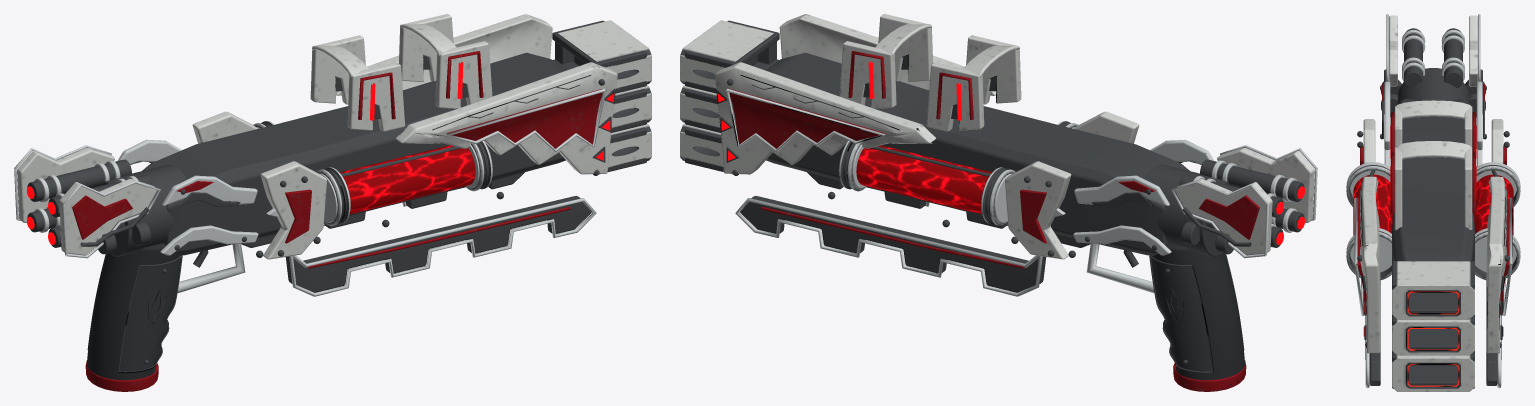
Rendered from discharge-static-preview-v39.glb.
The picture shows the model from 3 angles, left to right: view 1: azimuth 30°, elevation 25°; view 2: azimuth 150°, elevation 25°; view 3: azimuth 270°, elevation 25°; orthographic projection. The views are drawn at different scales.
Visible parts, largest first — view 1: AtlasMotionGroup_0.001, AtlasMotionGroup_6.001, AtlasMotionGroup_3.001, AtlasMotionGroup_4.001, AtlasMotionGroup_5.001, AtlasMotionGroup_1.001; view 2: AtlasMotionGroup_0.001, AtlasMotionGroup_6.001, AtlasMotionGroup_3.001, AtlasMotionGroup_4.001, AtlasMotionGroup_5.001, AtlasMotionGroup_1.001; view 3: AtlasMotionGroup_0.001, AtlasMotionGroup_6.001, AtlasMotionGroup_4.001, AtlasMotionGroup_5.001, AtlasMotionGroup_3.001, AtlasMotionGroup_1.001, AtlasMotionGroup_2.001.
Boxes of the visible parts, x1,y1,x2,y2 form: AtlasMotionGroup_0.001: (14, 14, 617, 391); AtlasMotionGroup_6.001: (555, 20, 651, 88); AtlasMotionGroup_3.001: (552, 20, 646, 93); AtlasMotionGroup_4.001: (608, 123, 651, 167); AtlasMotionGroup_5.001: (611, 85, 651, 127); AtlasMotionGroup_1.001: (599, 127, 646, 174); AtlasMotionGroup_0.001: (714, 14, 1317, 391); AtlasMotionGroup_6.001: (680, 20, 776, 88); AtlasMotionGroup_3.001: (685, 20, 779, 93); AtlasMotionGroup_4.001: (680, 123, 723, 166); AtlasMotionGroup_5.001: (680, 85, 720, 127); AtlasMotionGroup_1.001: (685, 127, 732, 174); AtlasMotionGroup_0.001: (1346, 14, 1520, 388); AtlasMotionGroup_6.001: (1392, 261, 1474, 319); AtlasMotionGroup_4.001: (1392, 355, 1474, 391); AtlasMotionGroup_5.001: (1392, 319, 1474, 355); AtlasMotionGroup_3.001: (1392, 261, 1474, 316); AtlasMotionGroup_1.001: (1392, 352, 1474, 388); AtlasMotionGroup_2.001: (1392, 316, 1474, 352).
Bounding box in the file's own units: 7.77 × 3.38 × 2.09.
12 materials, 12 textured.
